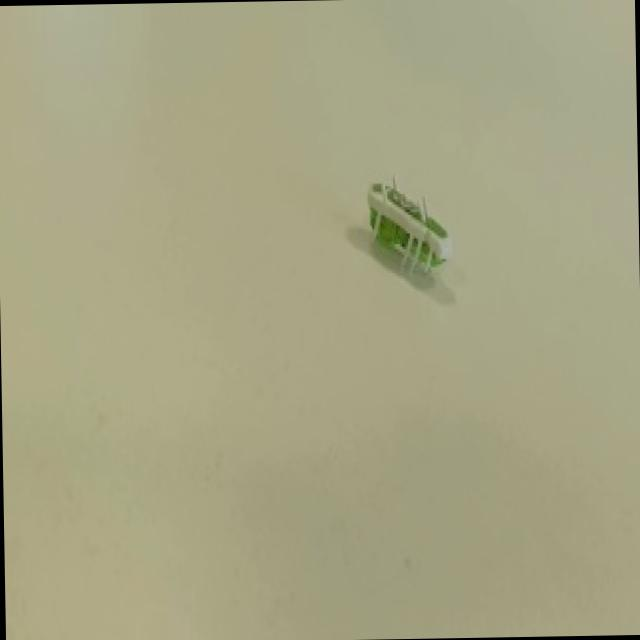4_NanoBug_Blanco: (342, 129, 487, 298)
